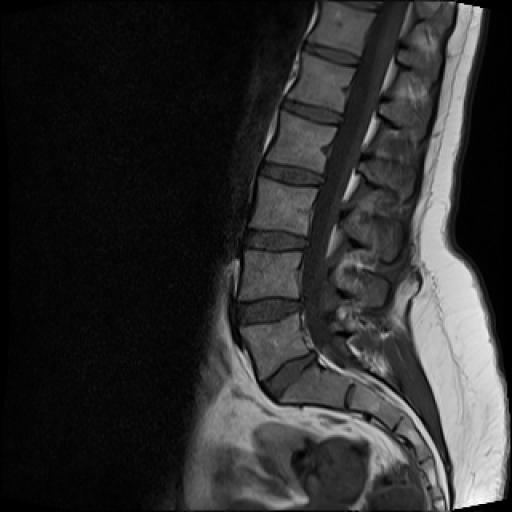L1: (287, 50, 357, 114)
L2: (264, 110, 338, 174)
L3: (249, 176, 318, 238)
L4: (239, 248, 303, 300)
L5: (239, 313, 309, 383)
S1: (278, 363, 355, 410)
